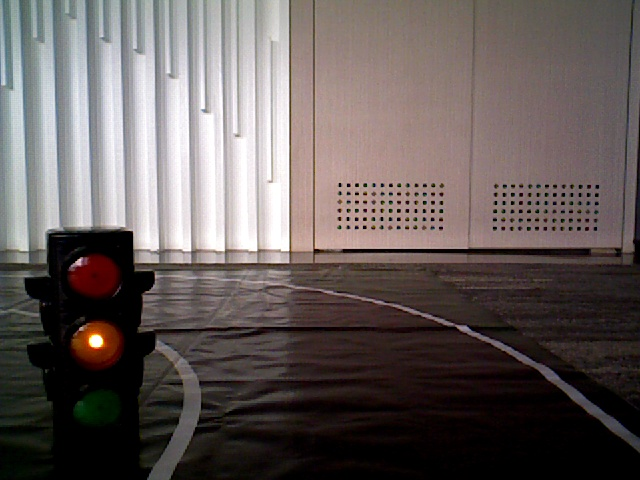yellow: (48, 240, 135, 430)
